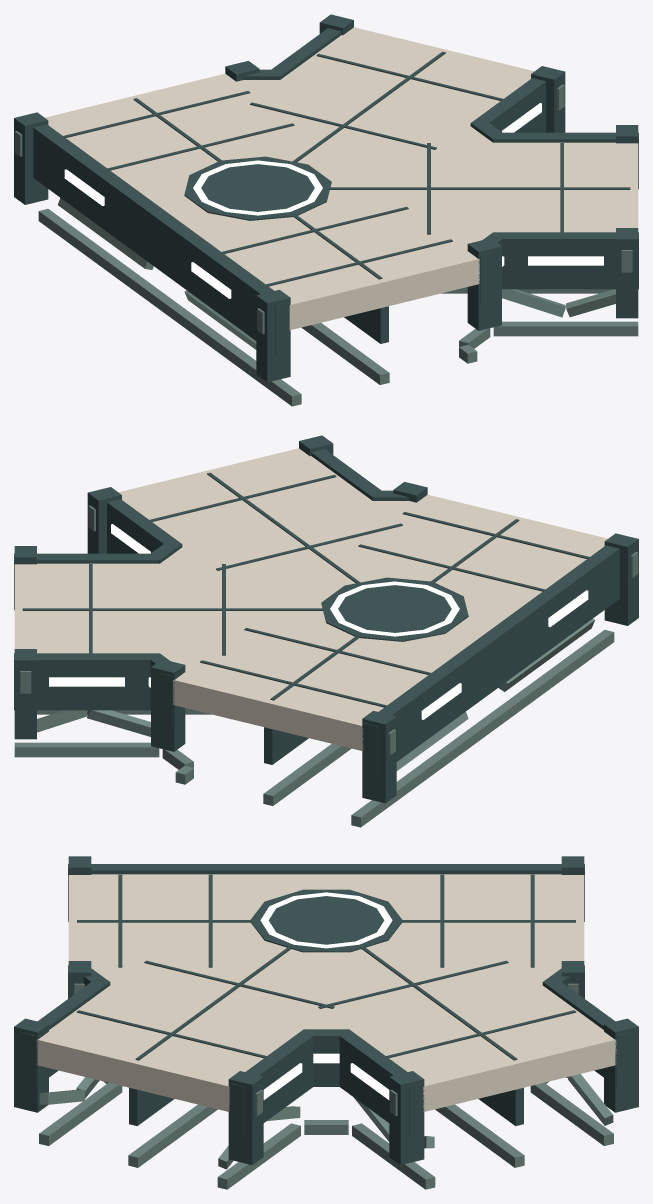
File: Junction_Kletter30_lab.glb
3 views of the same model, one above another, from view 1: azimuth 30°, elevation 25°; view 2: azimuth 150°, elevation 25°; view 3: azimuth 270°, elevation 25° (orthographic).
Parts seen in each view (by area): view 1: Junction_Kletter30; view 2: Junction_Kletter30; view 3: Junction_Kletter30.
Boxes of the visible parts, x1,y1,x2,y2 form: Junction_Kletter30: (14, 14, 638, 406); Junction_Kletter30: (14, 435, 638, 827); Junction_Kletter30: (14, 856, 638, 1189).
Bounding box in the file's own units: 6.75 × 1.58 × 7.76.
